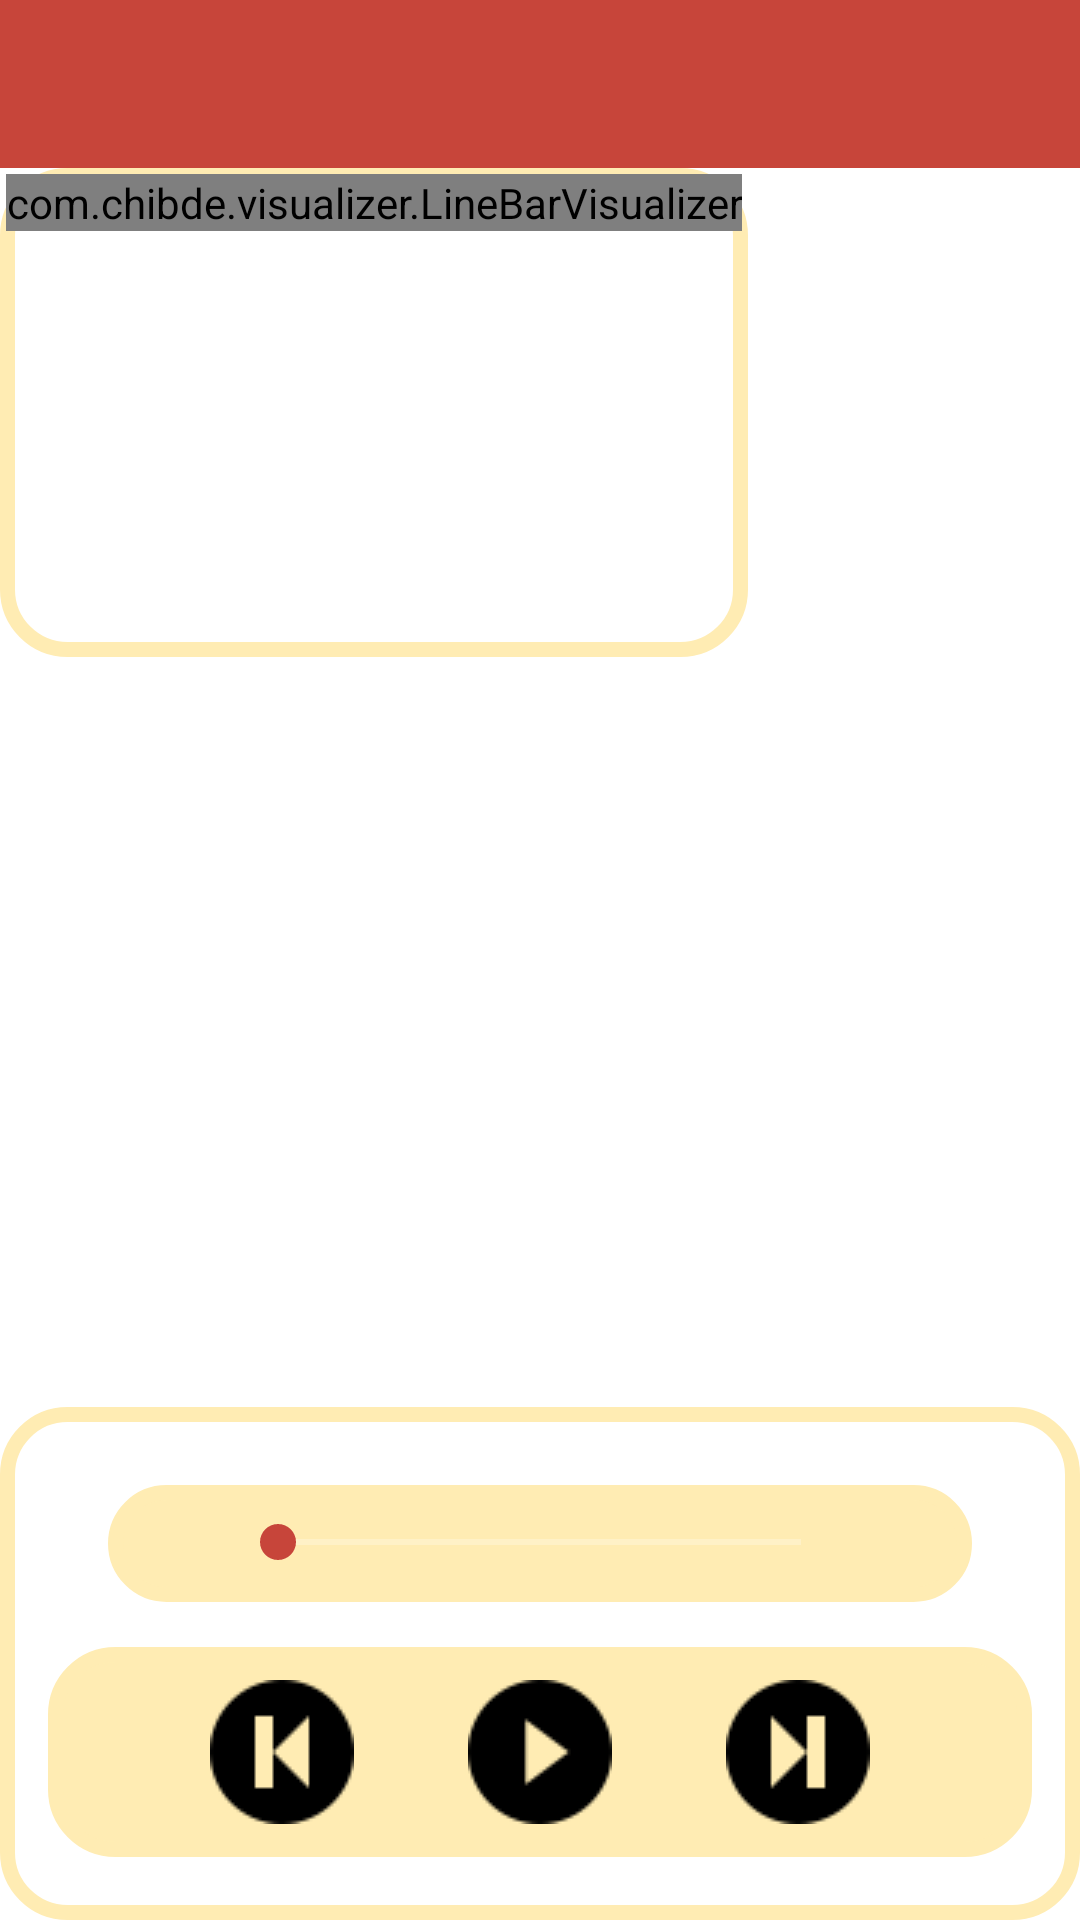

Named icons in this screenshot (1080w x 1920h) and their bounding boxes, Rect(x1, y1, x2, y2):
play: Rect(468, 1680, 612, 1824)
play next: Rect(726, 1680, 870, 1824)
play previous: Rect(210, 1680, 354, 1824)
